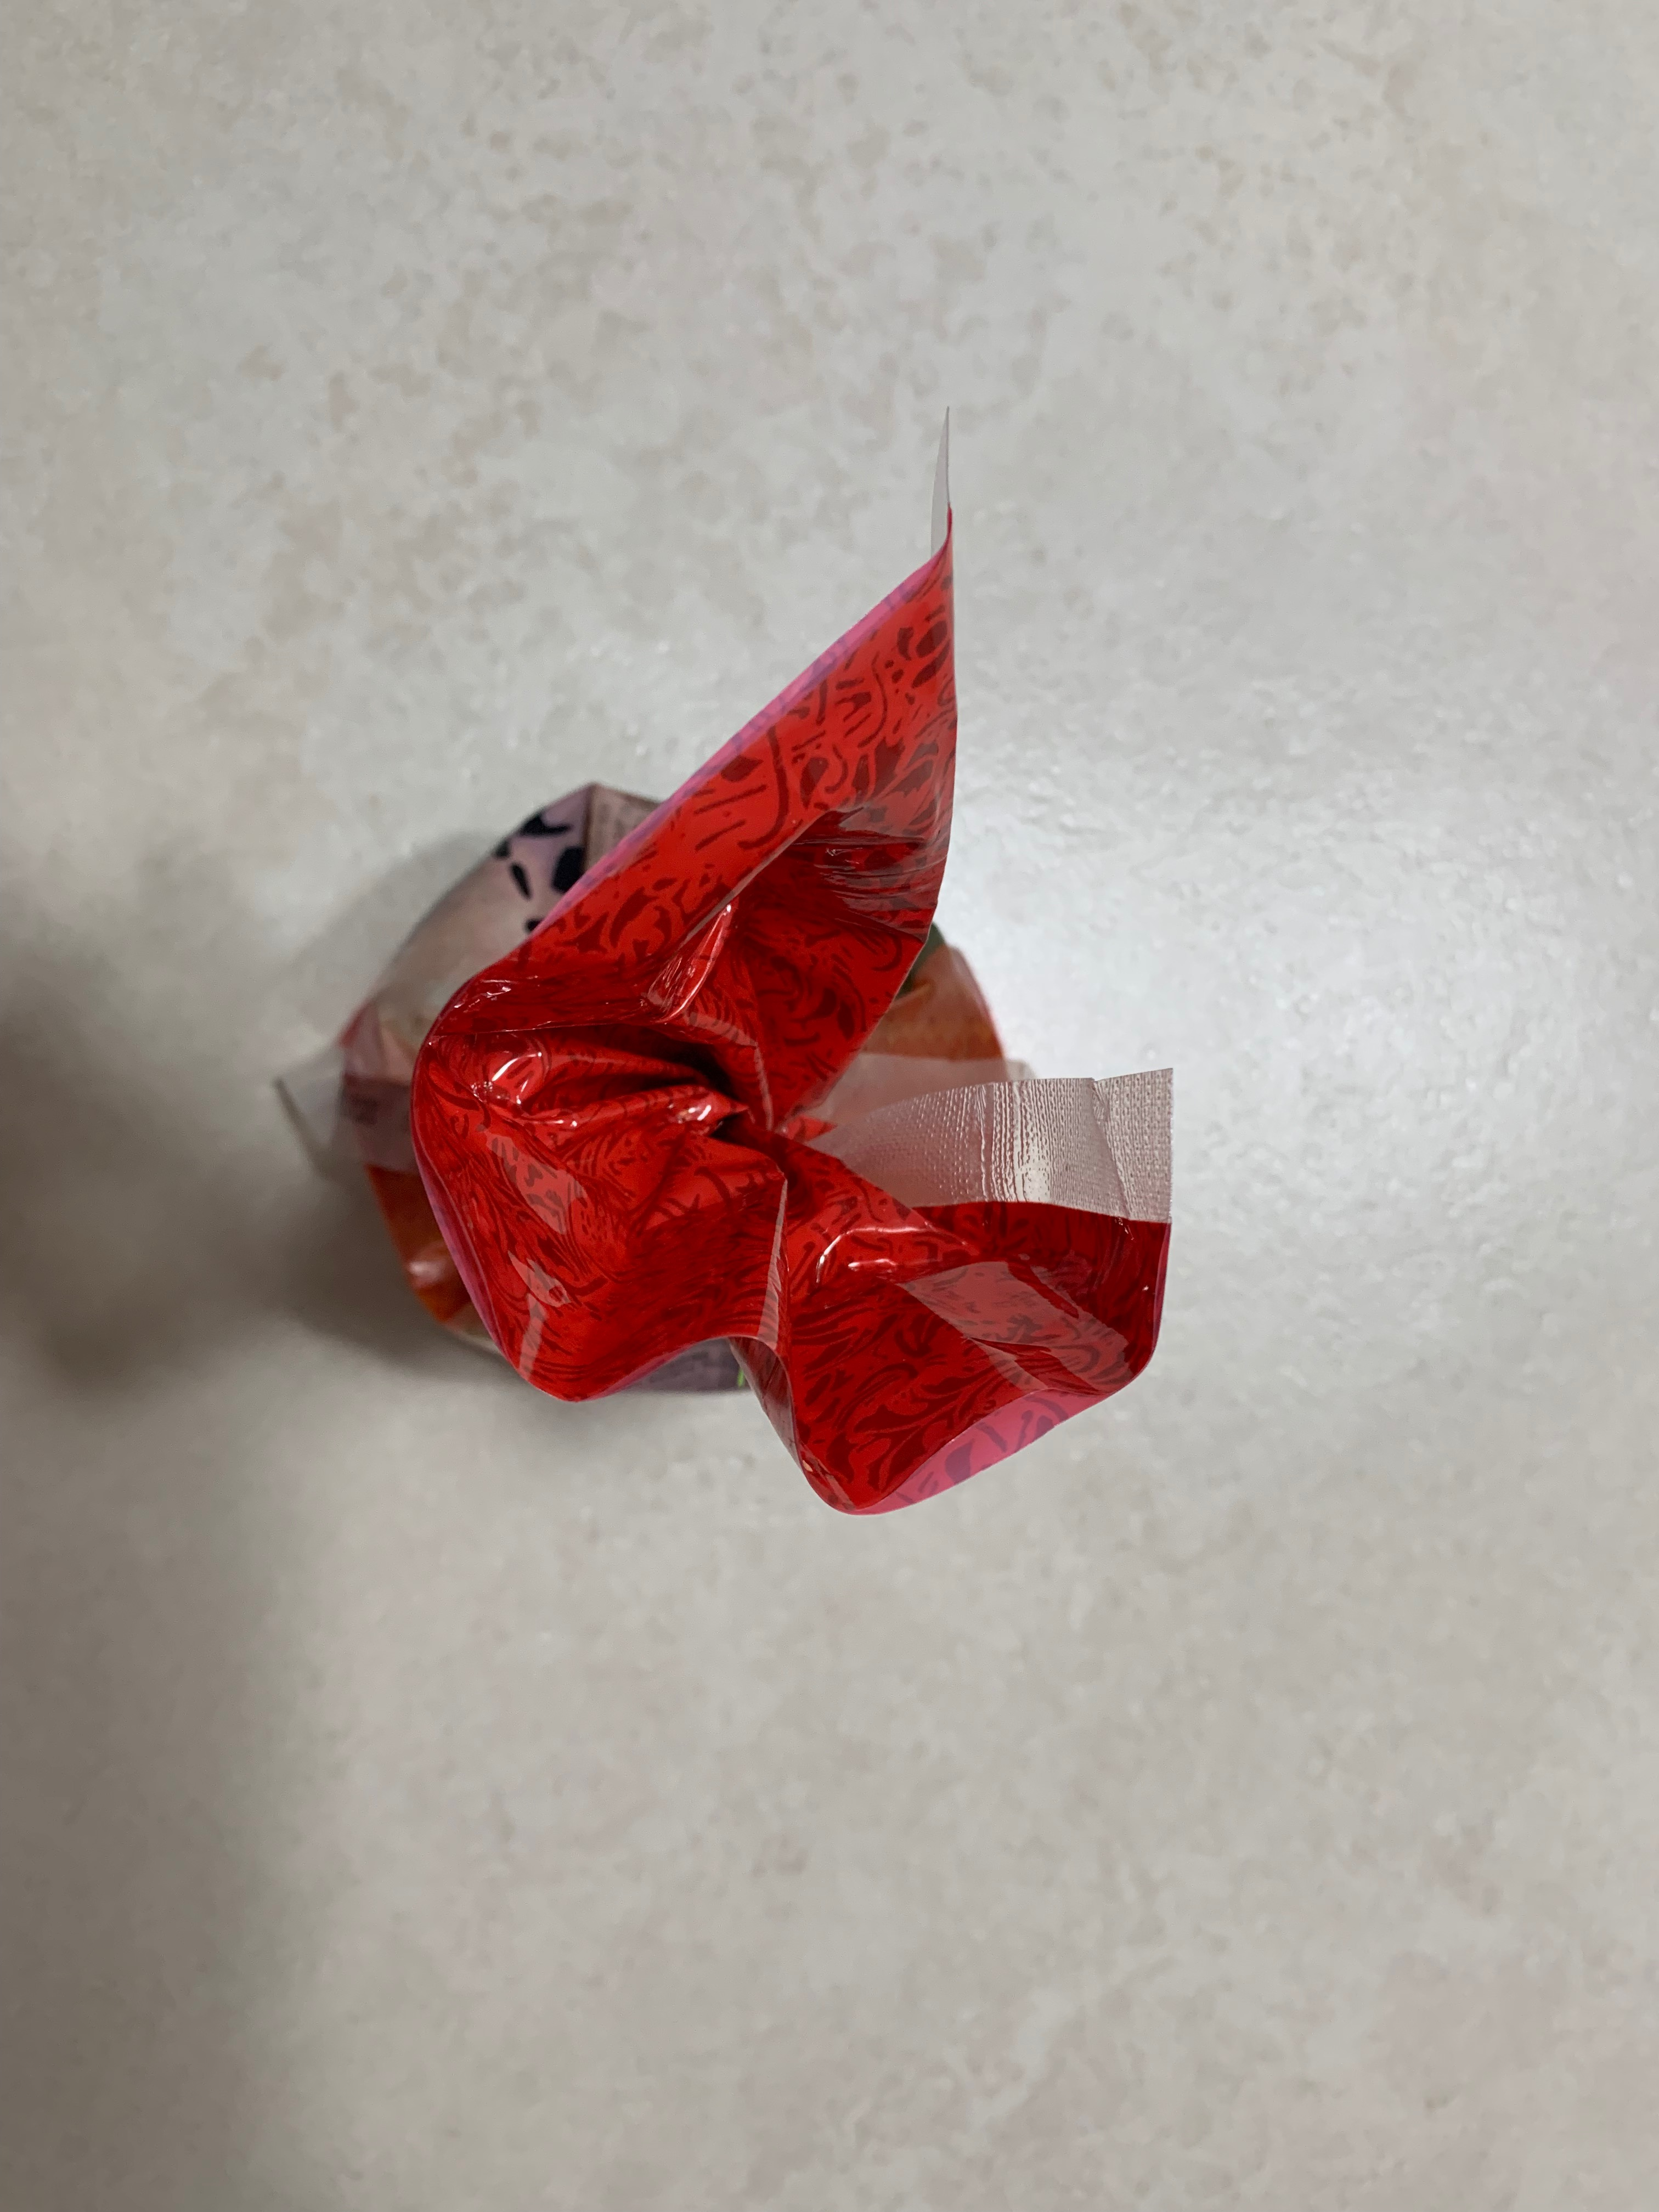kimchi: (347, 554, 1178, 1522)
